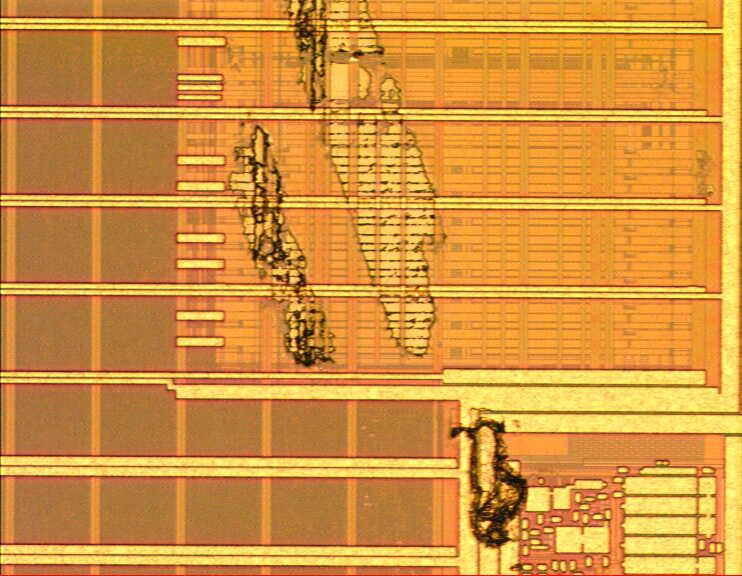SCRATCH: (227, 1, 531, 574)
